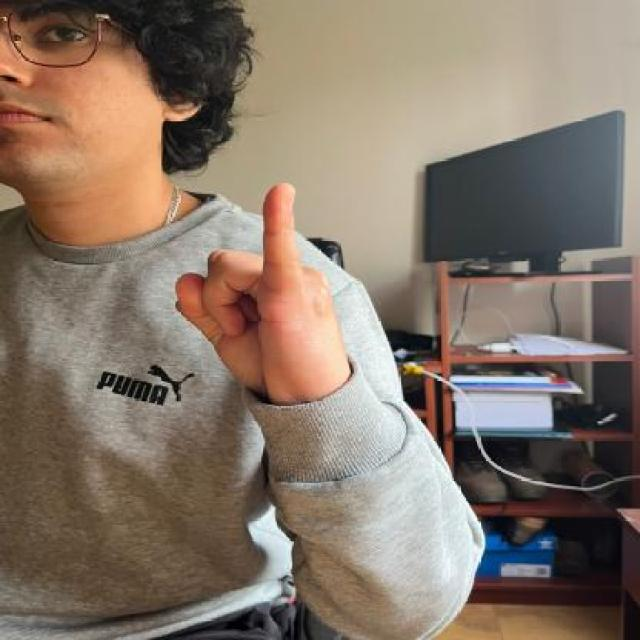I: (171, 175, 364, 398)
